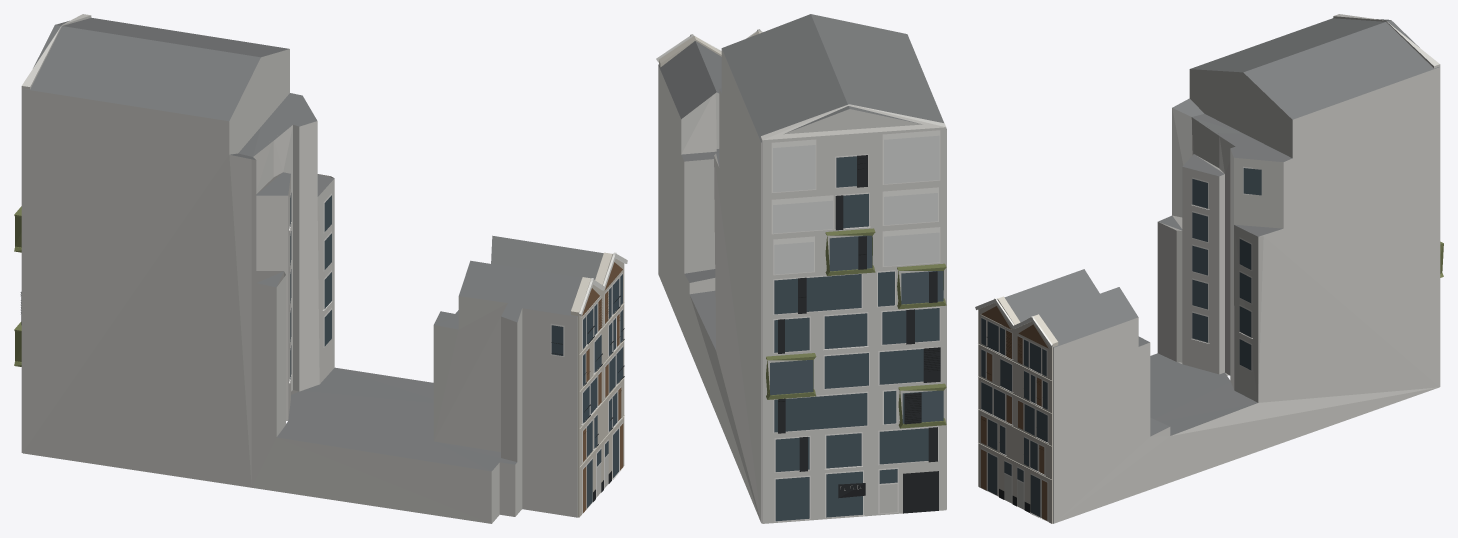
Rendered from de-rede.lod1.glb.
The picture shows the model from 3 angles, left to right: view 1: azimuth 30°, elevation 25°; view 2: azimuth 150°, elevation 25°; view 3: azimuth 270°, elevation 25°; orthographic projection. The views are drawn at different scales.
Visible parts, largest first — view 1: de-rede; view 2: de-rede; view 3: de-rede.
Part boxes in pixels (bbox=[...]): de-rede: bbox=[14, 14, 627, 523]; de-rede: bbox=[656, 14, 946, 523]; de-rede: bbox=[975, 14, 1443, 523].
Bounding box in the file's own units: 36.78 × 30.9 × 38.17.
